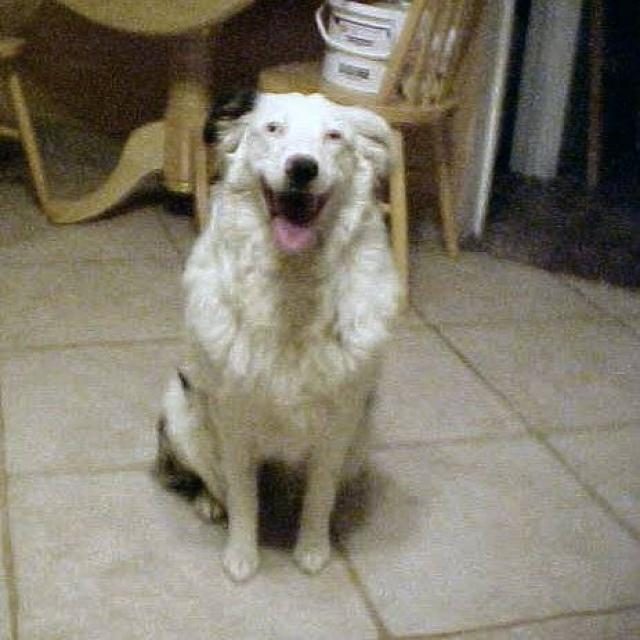dog: (152, 89, 404, 582)
